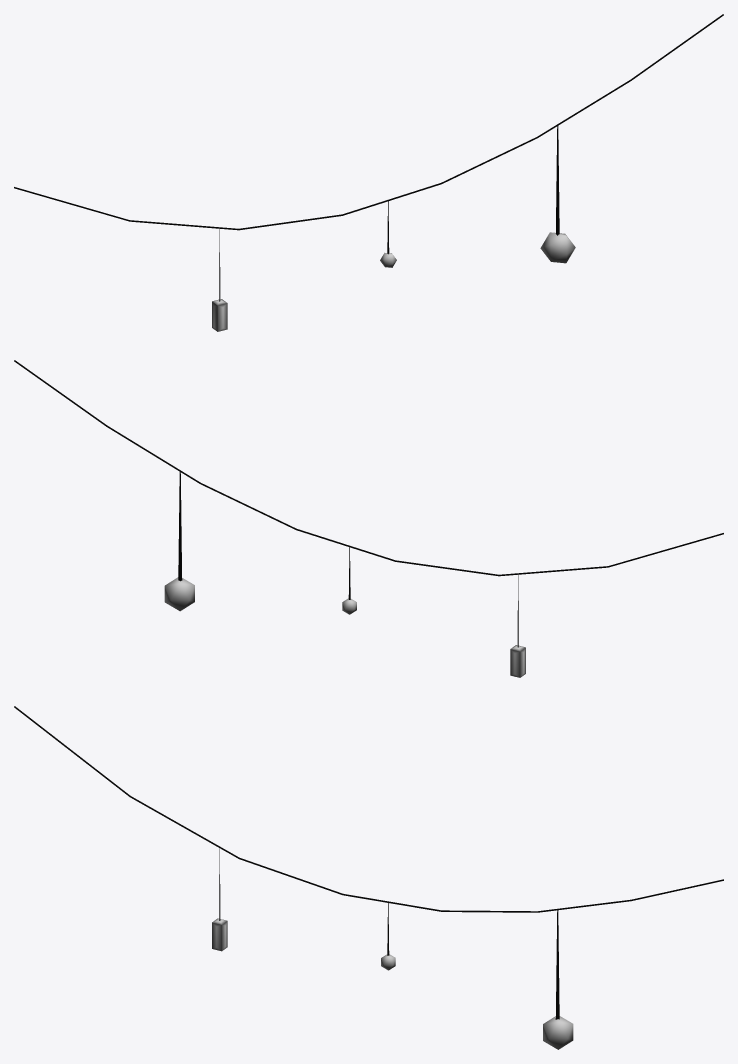
The model's file is Garland_A_3_SpherifyQuadLamps_White.fbx.
3 views of the same model, one above another, from view 1: azimuth 30°, elevation 25°; view 2: azimuth 150°, elevation 25°; view 3: azimuth 330°, elevation 25° (orthographic).
Parts seen in each view (by area): view 1: Garland_A_3_SpherifyQuadLamps_White; view 2: Garland_A_3_SpherifyQuadLamps_White; view 3: Garland_A_3_SpherifyQuadLamps_White.
Boxes of the visible parts, x1,y1,x2,y2 form: Garland_A_3_SpherifyQuadLamps_White: (14, 14, 723, 331); Garland_A_3_SpherifyQuadLamps_White: (14, 360, 723, 677); Garland_A_3_SpherifyQuadLamps_White: (14, 706, 723, 1049).
Size of the model in its own units: 673 by 188 by 29.13.
